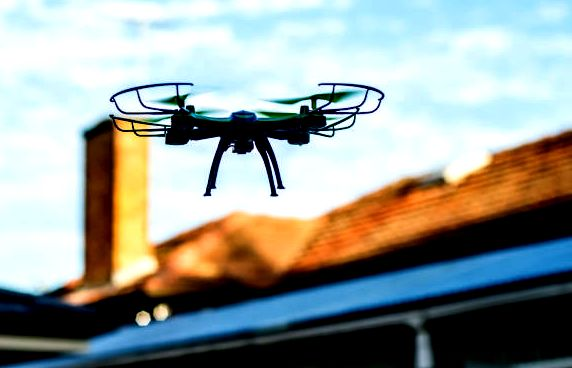Drone: (97, 77, 390, 205)
